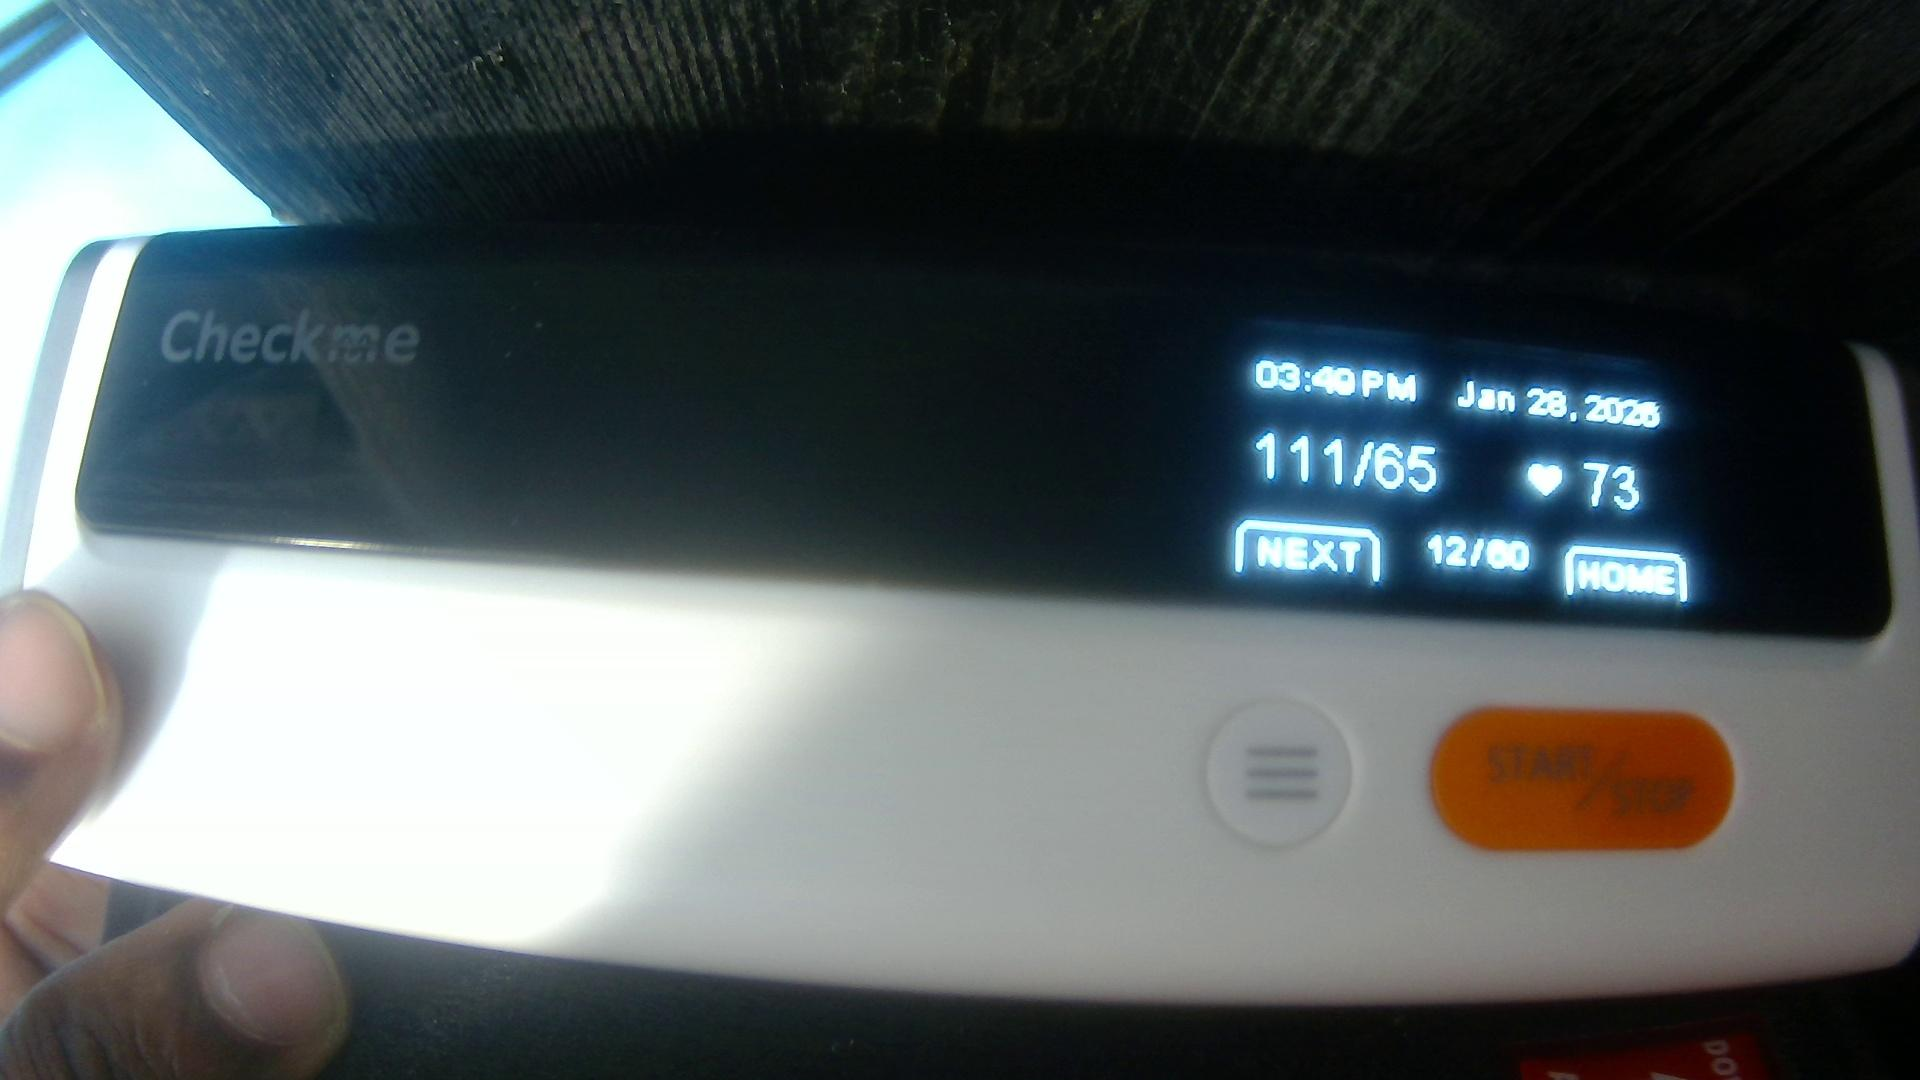DISPLAY: (84, 229, 1874, 637)
